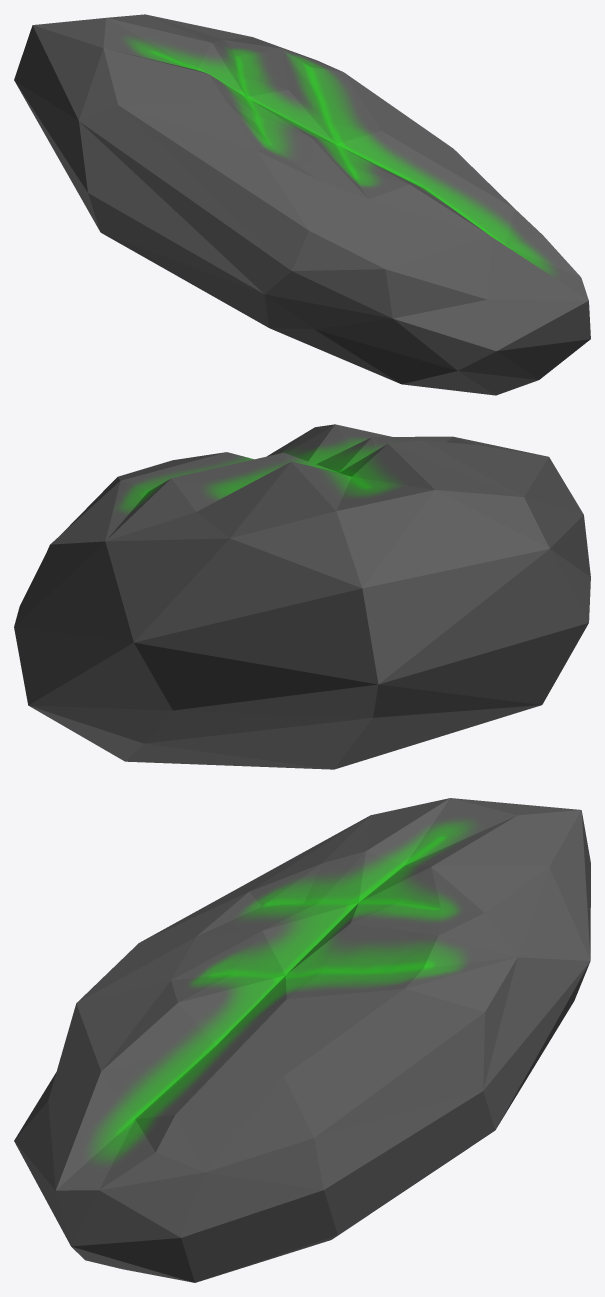
Rendered from DmgRune.fbx.
3 renders of one model, top to bottom at view 1: azimuth 30°, elevation 25°; view 2: azimuth 150°, elevation 25°; view 3: azimuth 270°, elevation 25°, orthographic. The views are drawn at different scales.
Parts seen in each view (by area): view 1: dmgRune; view 2: dmgRune; view 3: dmgRune.
Part boxes in pixels (x1,y1,x2,y2): dmgRune: (14, 14, 590, 395); dmgRune: (14, 424, 590, 769); dmgRune: (14, 798, 590, 1282).
Bounding box in the file's own units: 2.02 × 1.47 × 2.28.
